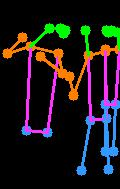normal: (2, 14, 74, 146)
